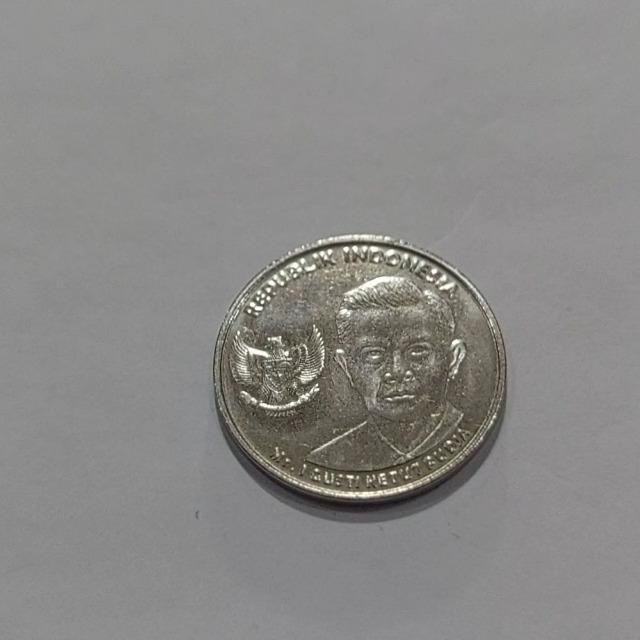Rp100: (212, 232, 507, 507), (299, 271, 471, 473)
